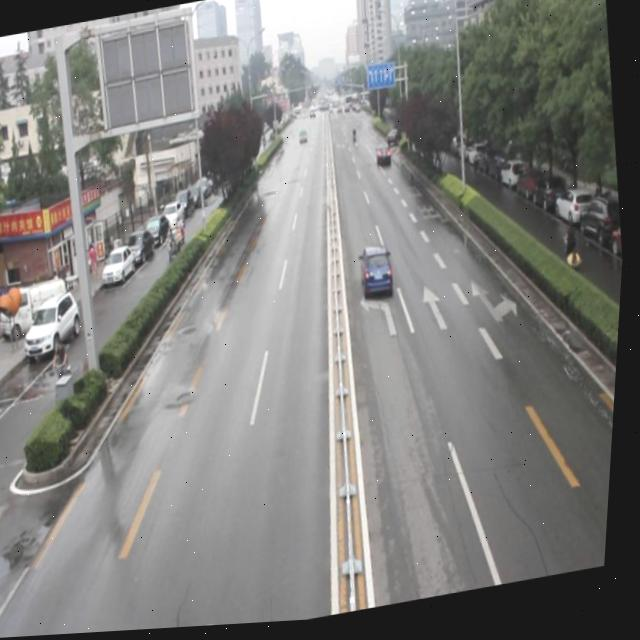car: (358, 246, 398, 300), (375, 147, 394, 173)
